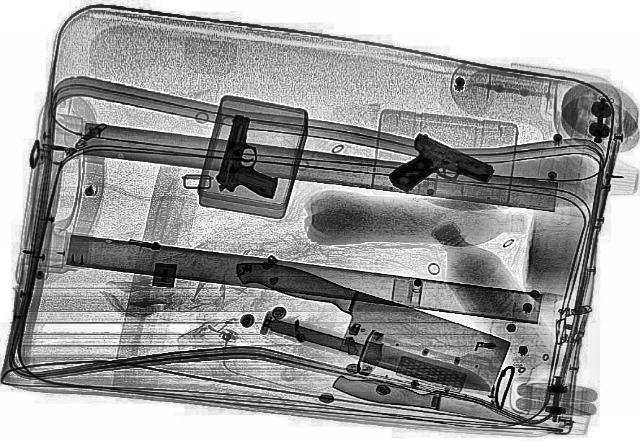Gun: (374, 132, 501, 208), (213, 112, 293, 198)
Knife: (198, 248, 532, 404), (254, 310, 501, 400), (327, 368, 553, 434)
